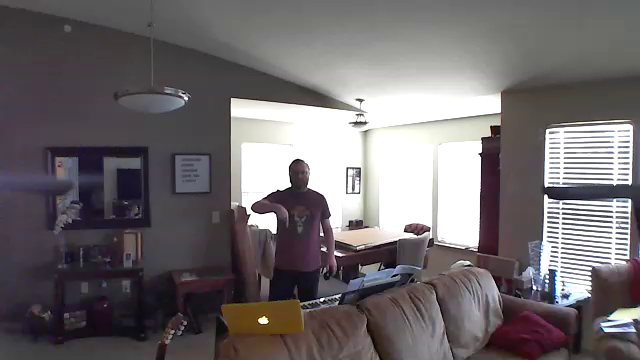down: (272, 201, 294, 233)
